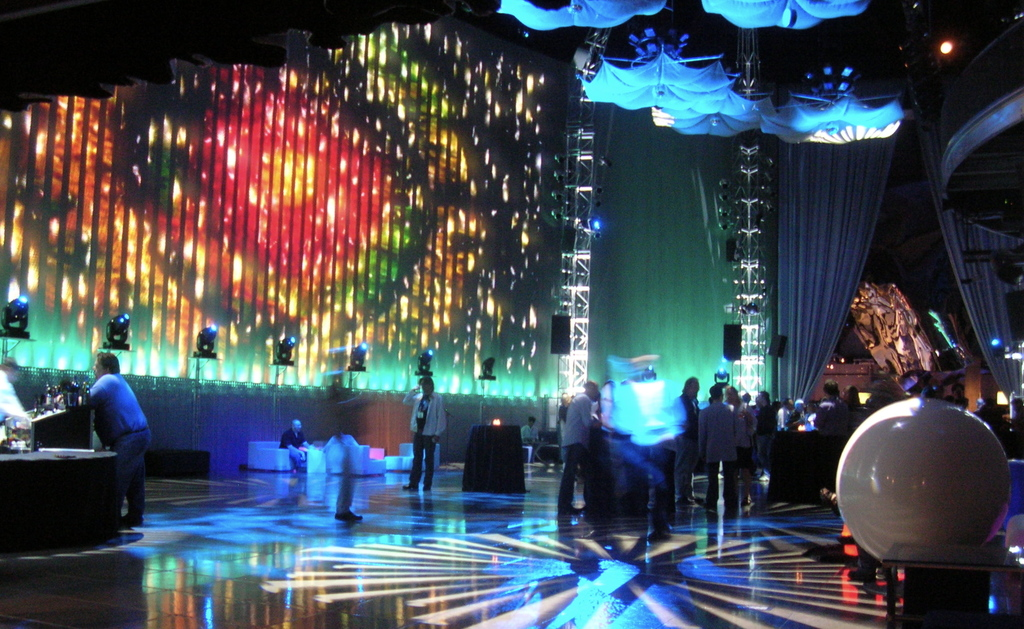Ball: (836, 400, 1009, 568)
